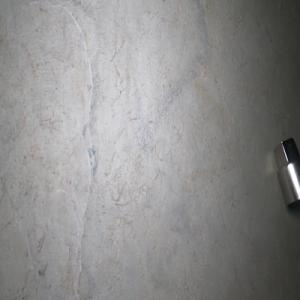MetalPart: (273, 136, 300, 208)
